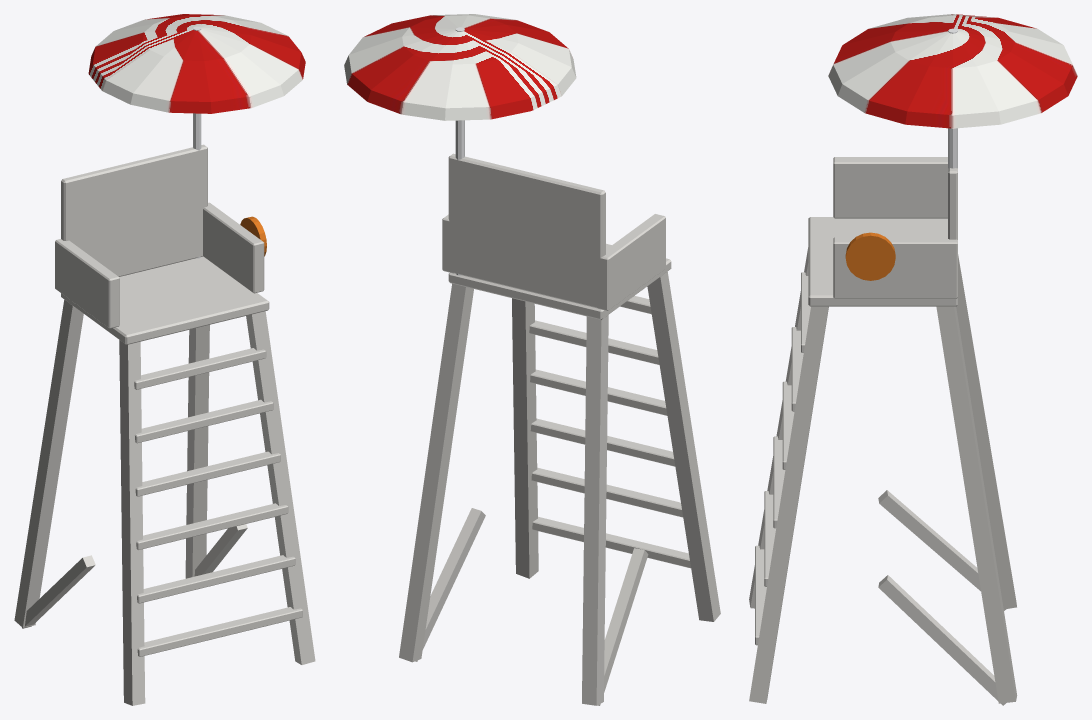
File: cadeira_salva_vidas.glb
The picture shows the model from 3 angles, left to right: view 1: azimuth 30°, elevation 25°; view 2: azimuth 150°, elevation 25°; view 3: azimuth 270°, elevation 25°; orthographic projection. The views are drawn at different scales.
Parts seen in each view (by area): view 1: cadeira_salva_vidas_madeira_branca, cadeira_salva_vidas_lona_sv; view 2: cadeira_salva_vidas_madeira_branca, cadeira_salva_vidas_lona_sv; view 3: cadeira_salva_vidas_madeira_branca, cadeira_salva_vidas_lona_sv, cadeira_salva_vidas_laranja_boia.
Boxes of the visible parts, bbox=[...] form: cadeira_salva_vidas_madeira_branca: bbox=[14, 144, 315, 705]; cadeira_salva_vidas_lona_sv: bbox=[88, 14, 305, 113]; cadeira_salva_vidas_madeira_branca: bbox=[399, 153, 720, 705]; cadeira_salva_vidas_lona_sv: bbox=[344, 14, 576, 120]; cadeira_salva_vidas_madeira_branca: bbox=[749, 157, 1017, 705]; cadeira_salva_vidas_lona_sv: bbox=[828, 14, 1077, 128]; cadeira_salva_vidas_laranja_boia: bbox=[845, 232, 895, 280].
Size of the model in its own units: 1.32 by 2.92 by 1.32.
4 materials, 1 textured.
